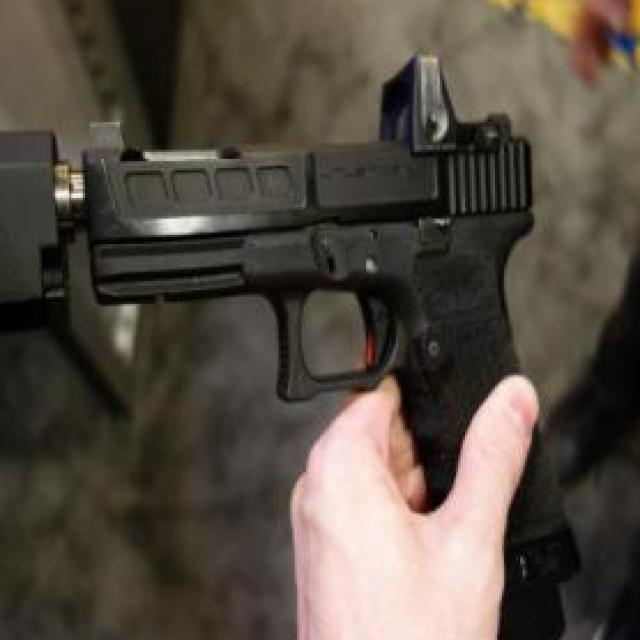pistol: (69, 60, 583, 640)
